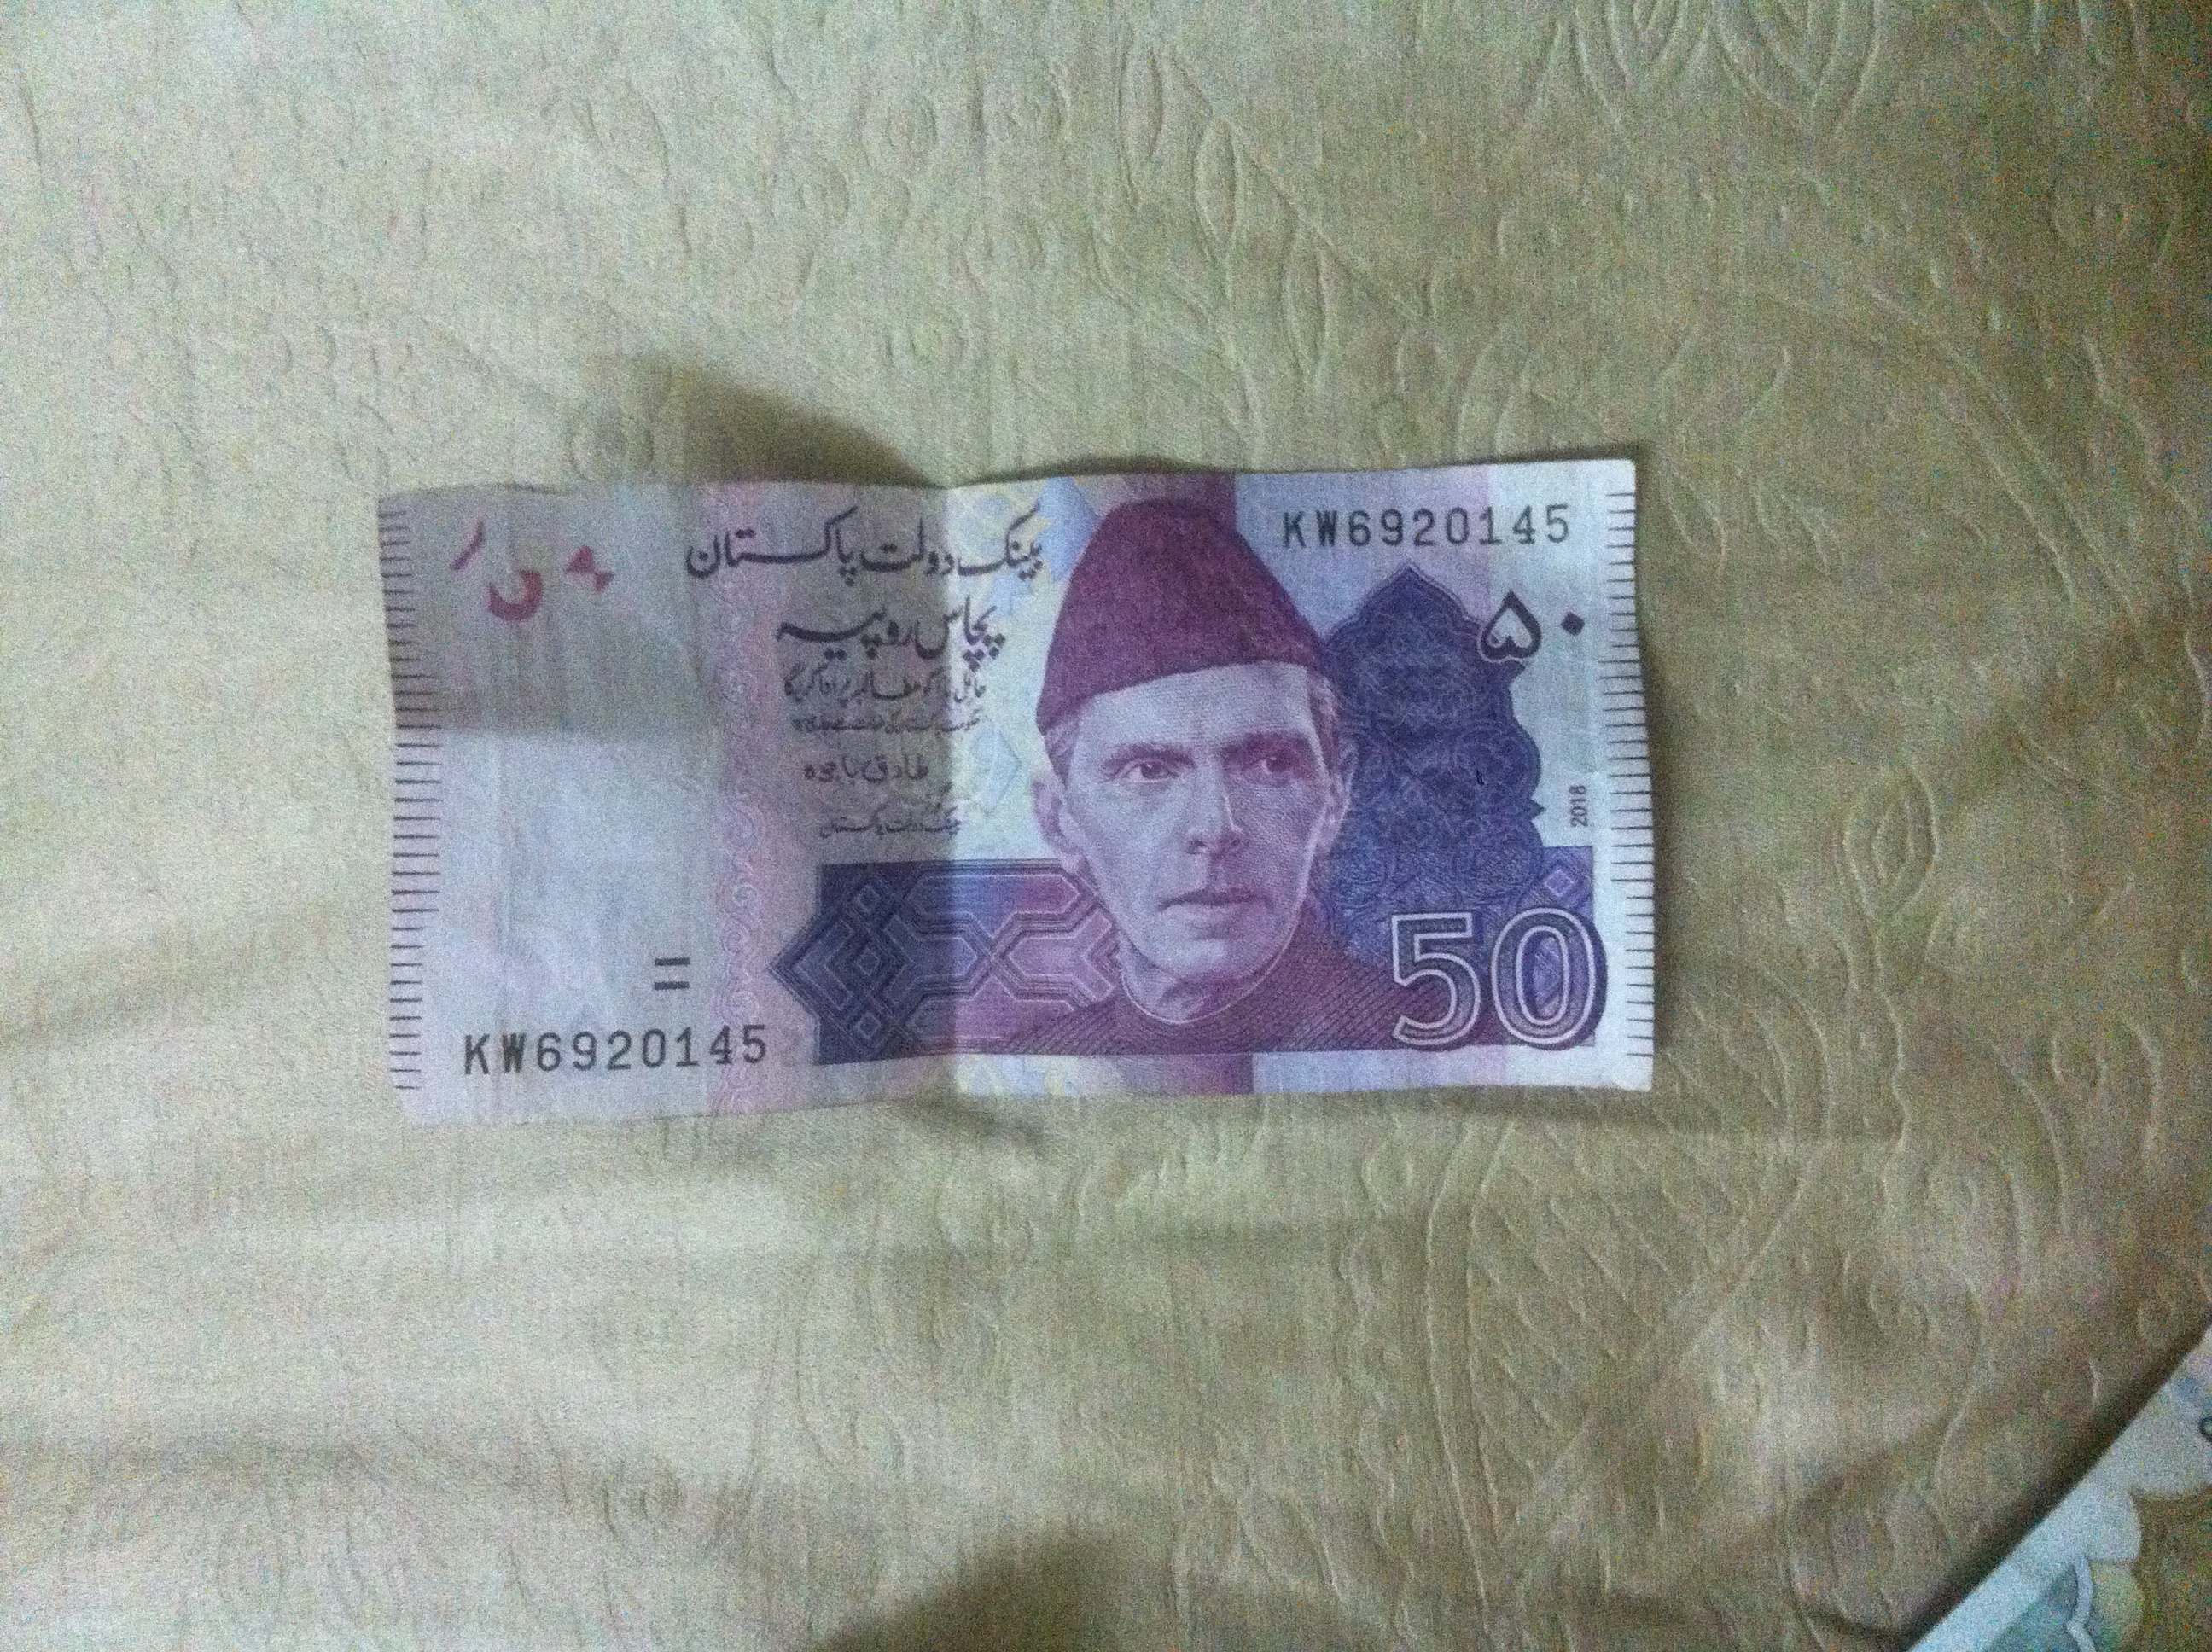50 rupee: (333, 439, 1690, 1138)
